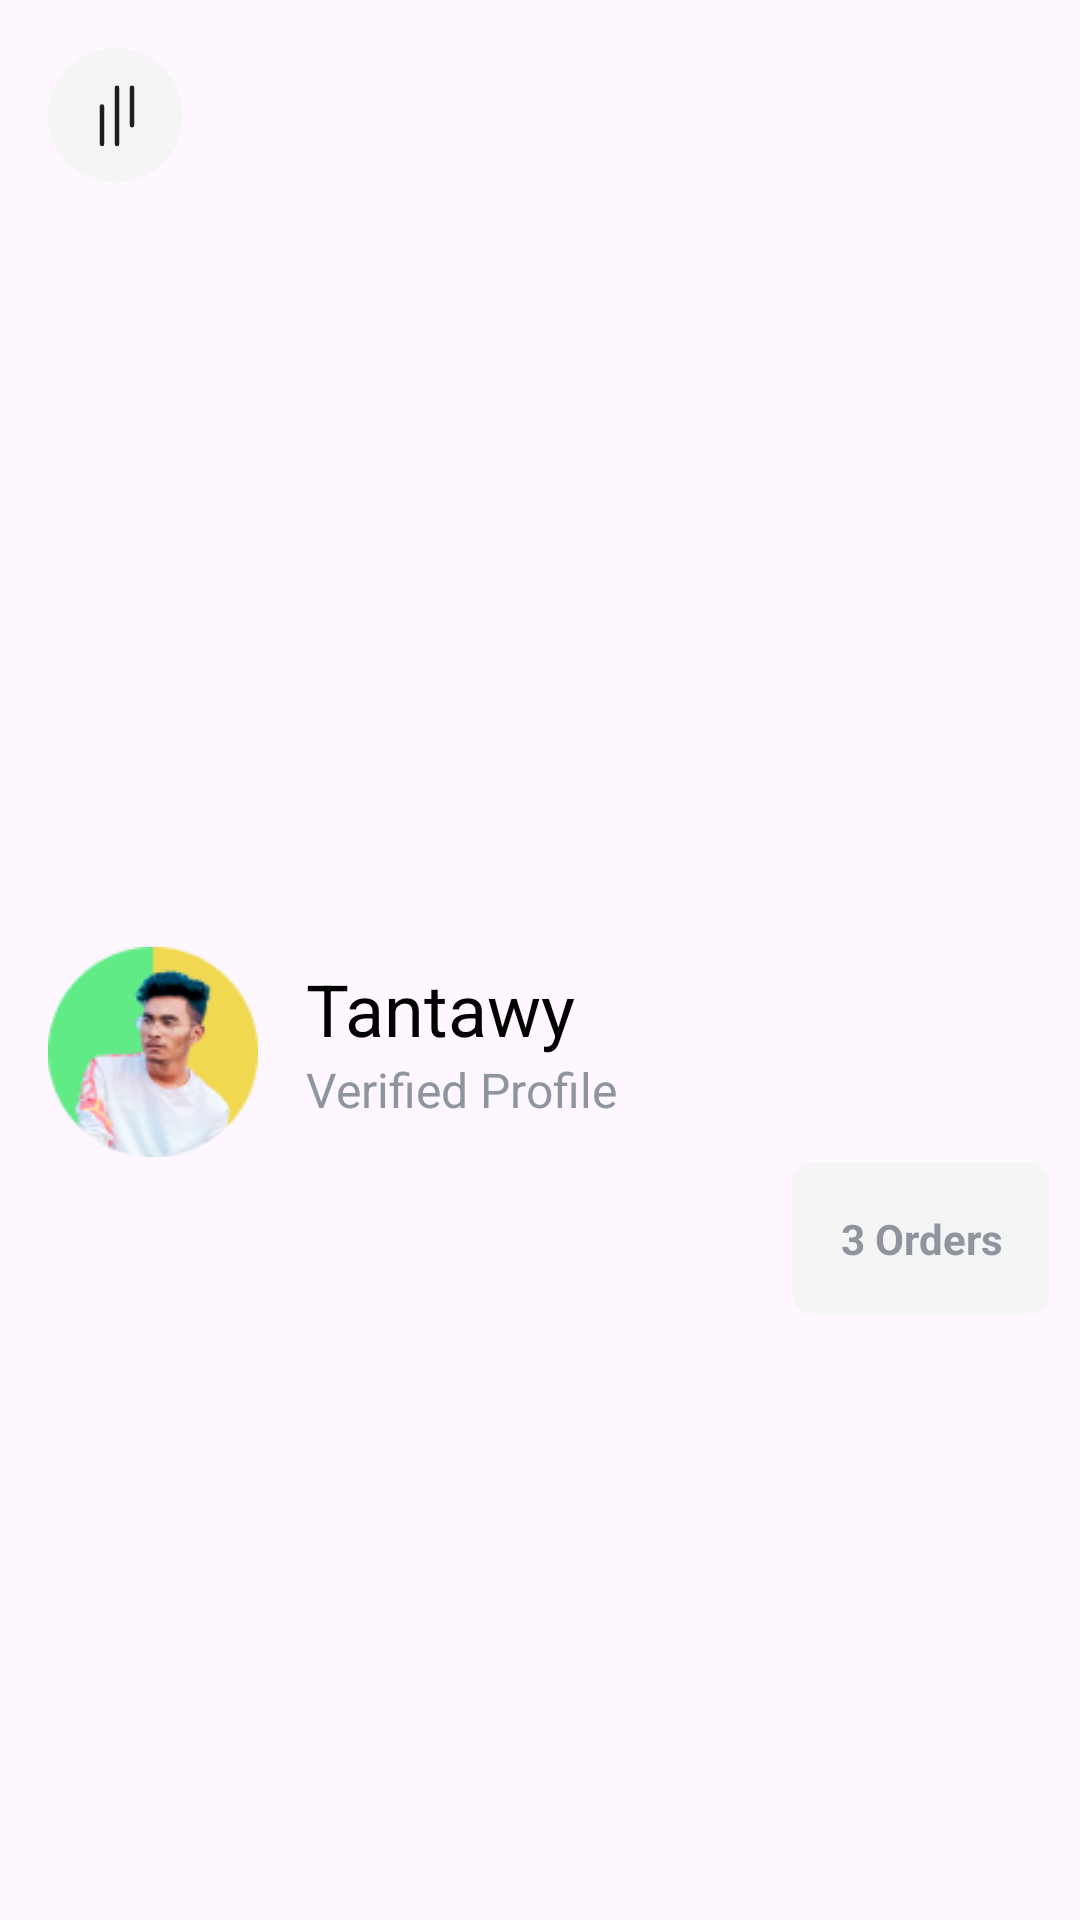

Icons on this 1080px×1920px Android screen, each with its box as box(x1, y1, x2, y2):
side menu: box(48, 48, 183, 183)
